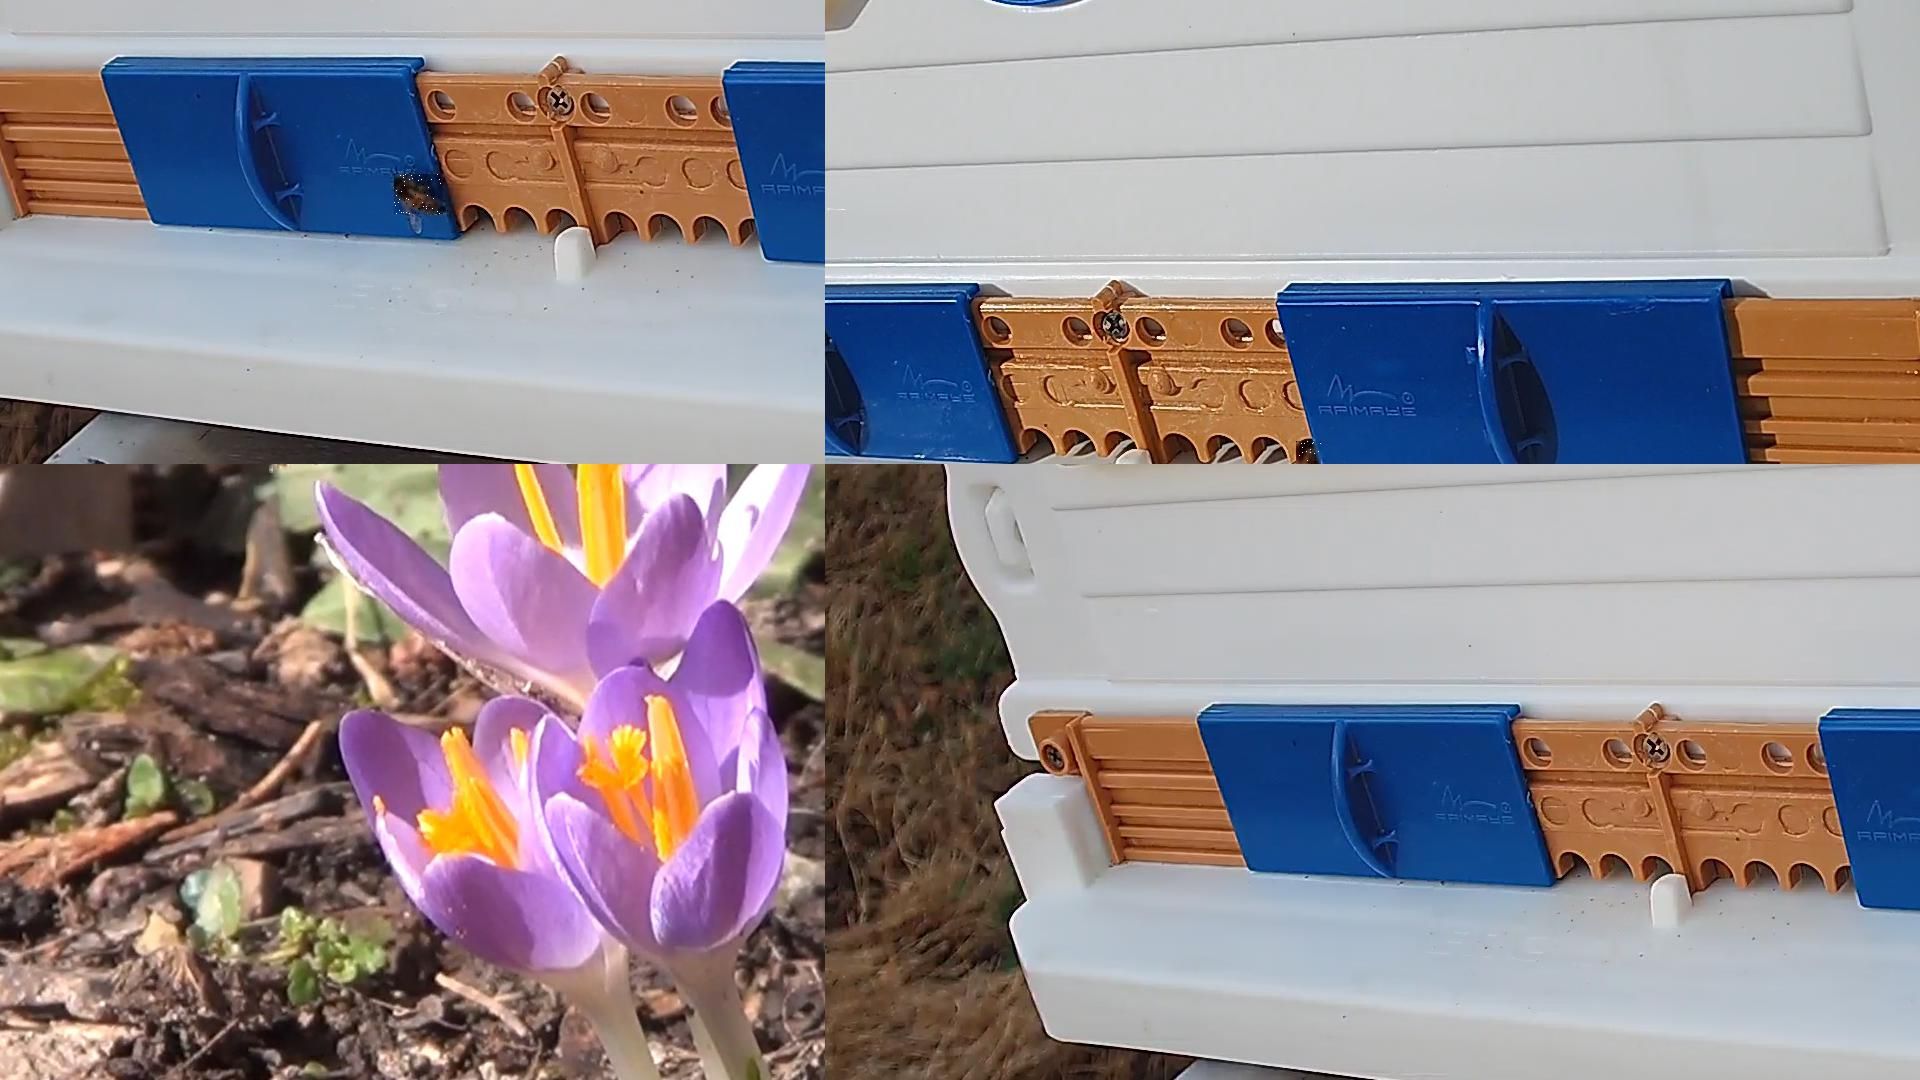bee: (396, 174, 446, 215), (1296, 440, 1323, 463)
